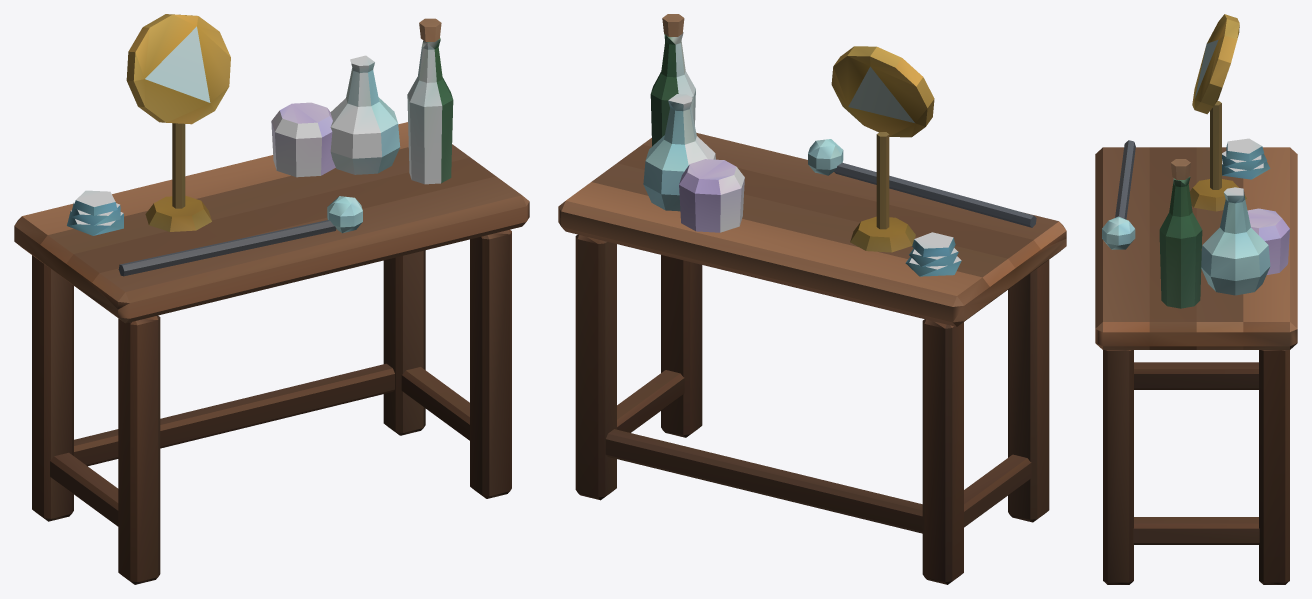
Rendered from glass-workbench.low.glb.
3 renders of one model, left to right at view 1: azimuth 30°, elevation 25°; view 2: azimuth 150°, elevation 25°; view 3: azimuth 270°, elevation 25°, orthographic. The views are drawn at different scales.
Visible parts, largest first — view 1: glass-workbench; view 2: glass-workbench; view 3: glass-workbench.
Part boxes in pixels (bbox=[...]): glass-workbench: bbox=[14, 14, 529, 584]; glass-workbench: bbox=[558, 14, 1066, 584]; glass-workbench: bbox=[1095, 14, 1297, 584].
Bounding box in the file's own units: 1.1 × 1.27 × 0.52.
